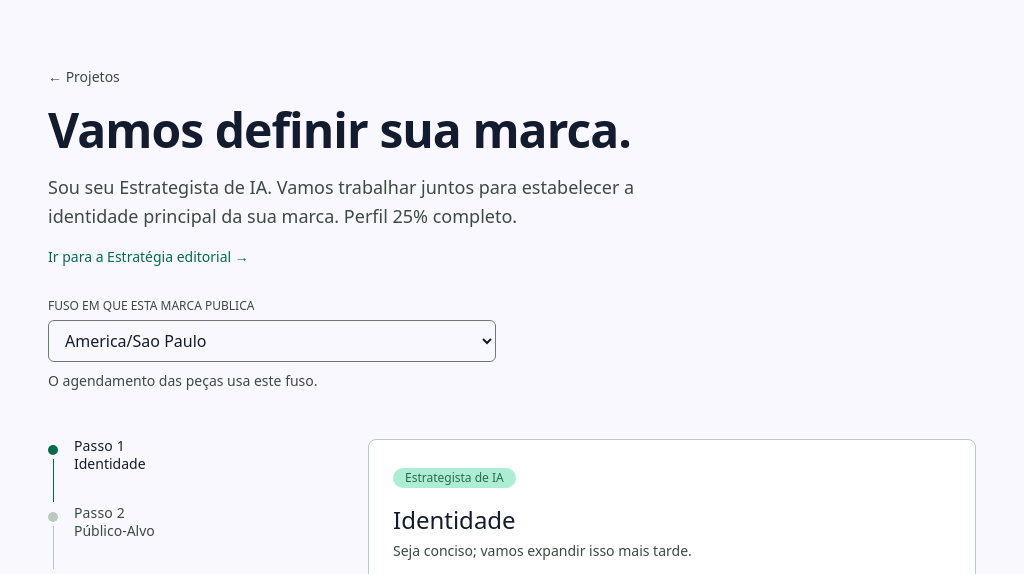
Test: trocar o fuso manda o PATCH e confirma na tela
Select "Europe/Lisbon" in the dropdown labelled "Fuso em que esta marca publica". click: (272, 341)
box: [48,320,496,362]
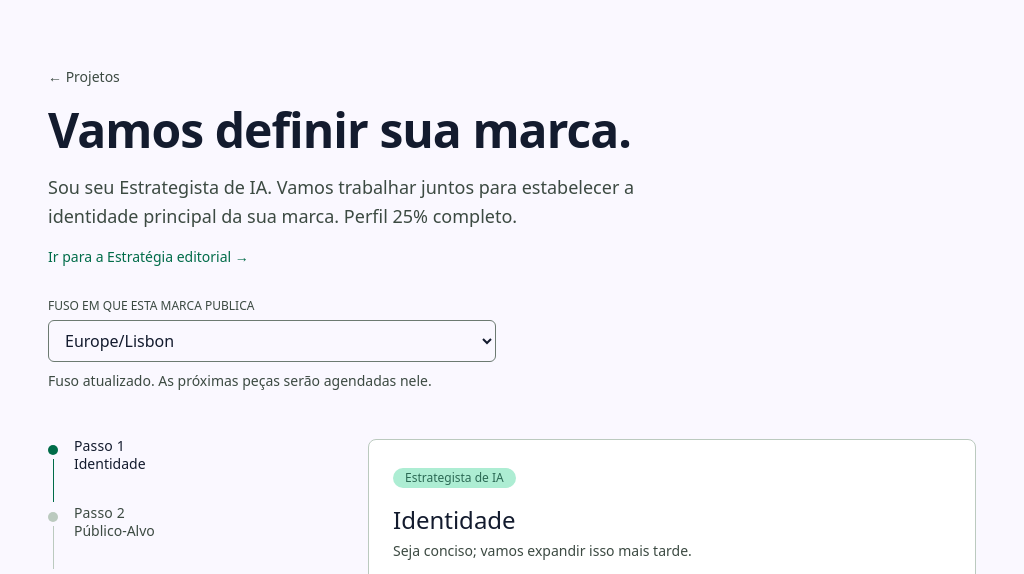
Expected: the text "Fuso atualizado. As próximas peças serão agendadas nele." is shown, [48,370,496,391]
